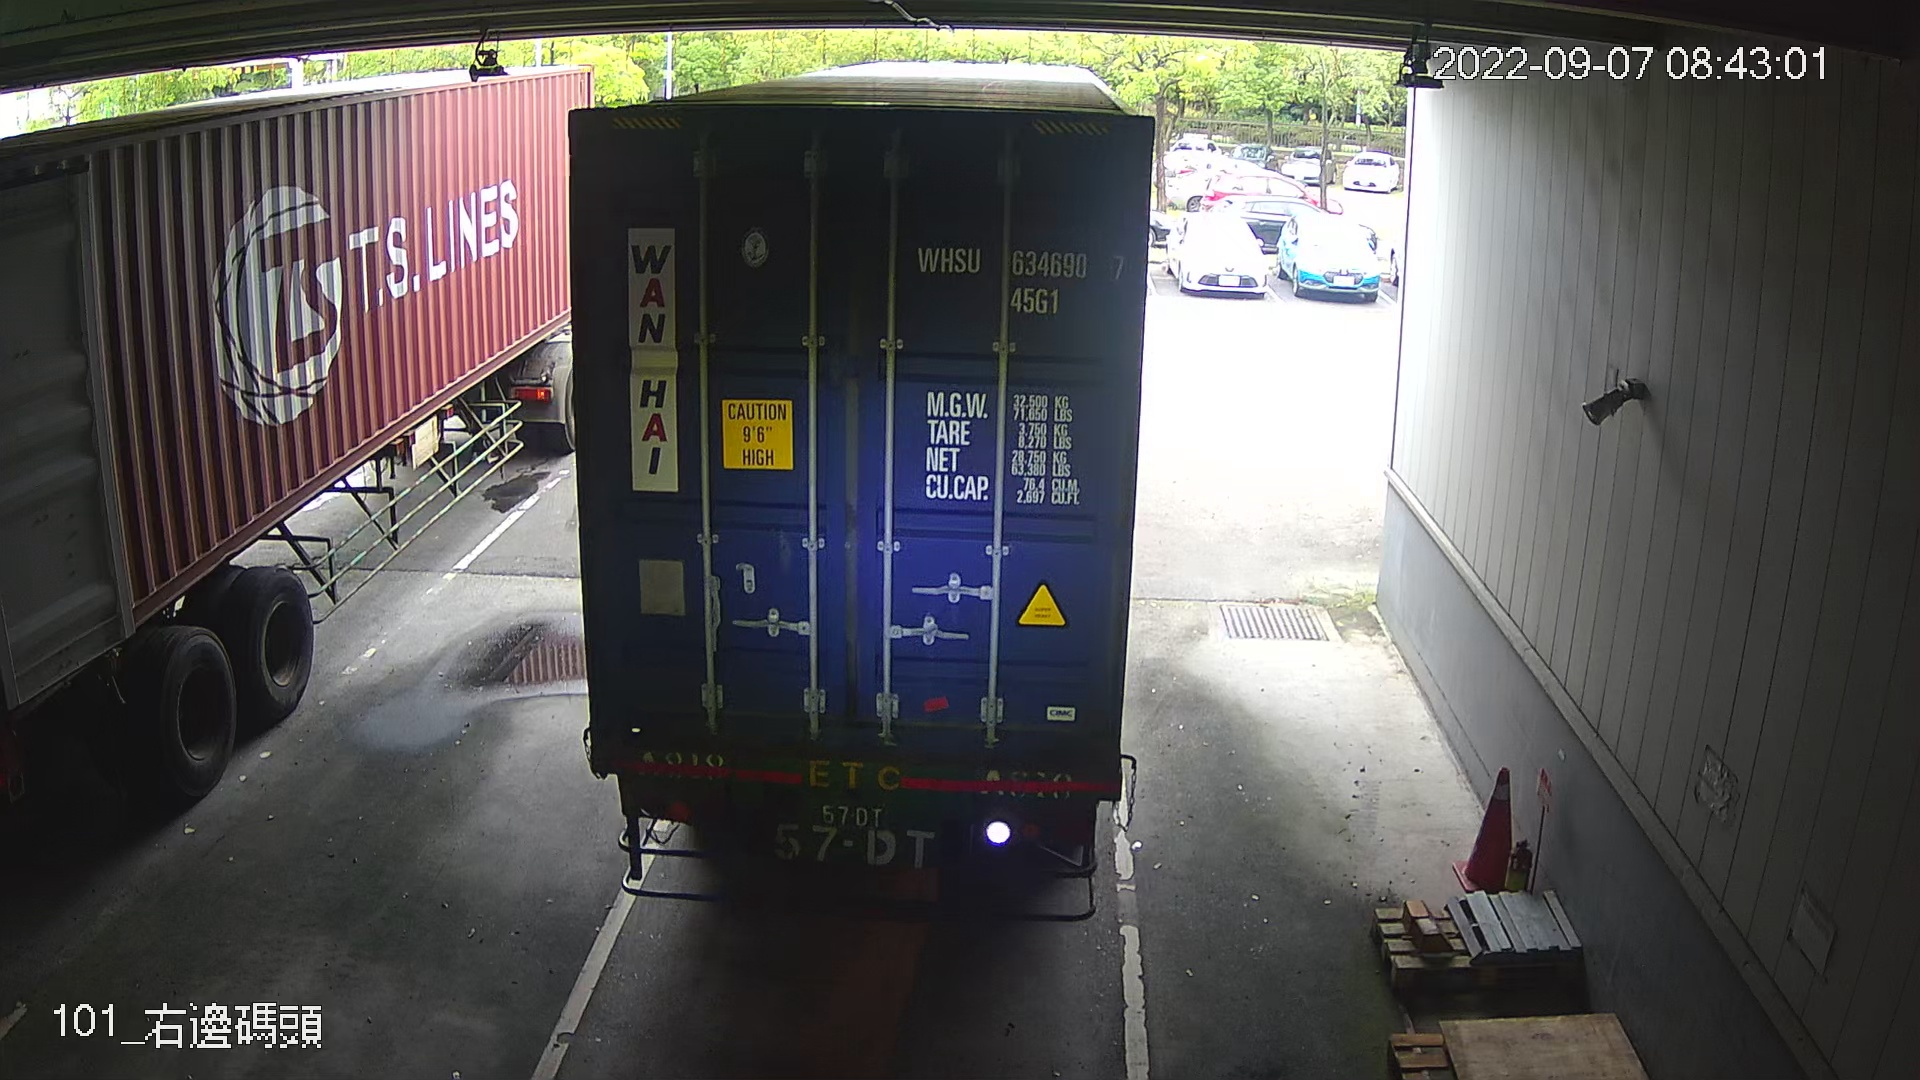container: (907, 232, 1135, 326)
